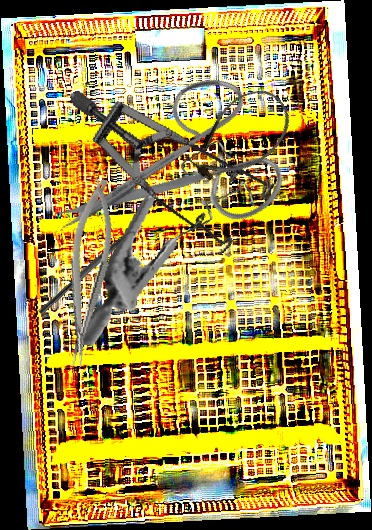Cannula: (176, 77, 303, 196)
Chopper: (37, 221, 145, 322)
Iris Scissors: (49, 39, 314, 313)
Needle Holder: (51, 175, 124, 370)
Speculum: (68, 35, 291, 285), (74, 125, 264, 366)
